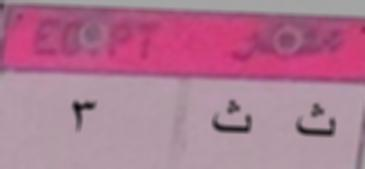3: (69, 94, 99, 142)
thaa: (294, 99, 343, 156), (206, 95, 259, 146)
